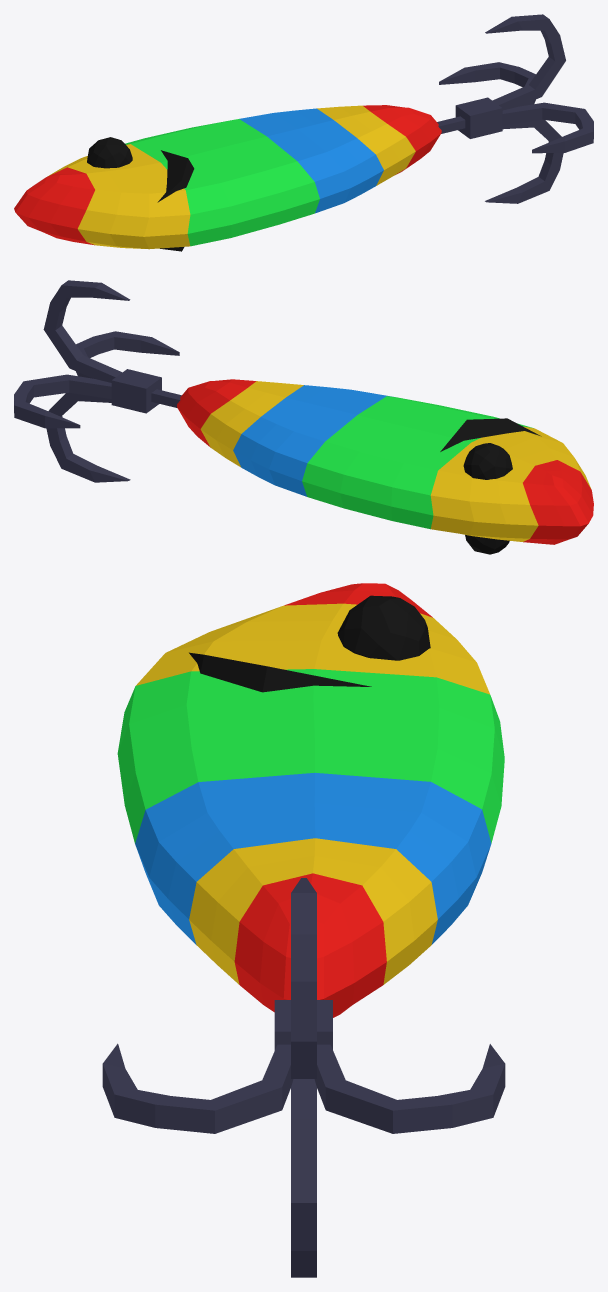
Rendered from lure_4.glb.
3 views of the same model, one above another, from view 1: azimuth 30°, elevation 25°; view 2: azimuth 150°, elevation 25°; view 3: azimuth 270°, elevation 25° (orthographic). The views are drawn at different scales.
Visible parts, largest first — view 1: Lure_4; view 2: Lure_4; view 3: Lure_4.
Boxes of the visible parts, bbox=[...] form: Lure_4: bbox=[14, 14, 593, 251]; Lure_4: bbox=[14, 280, 593, 554]; Lure_4: bbox=[102, 583, 505, 1277].
Size of the model in its own units: 5.6 by 1.85 by 1.85.
